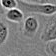cell: (12, 12, 26, 25), (39, 36, 51, 50), (20, 29, 31, 40), (3, 38, 13, 49), (33, 8, 41, 21), (47, 1, 55, 12)
